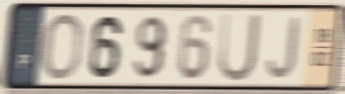6: (175, 12, 214, 82), (88, 12, 125, 81)
9: (134, 12, 169, 81)
J: (265, 14, 303, 81)
O: (39, 11, 86, 83)
U: (216, 11, 263, 84)
